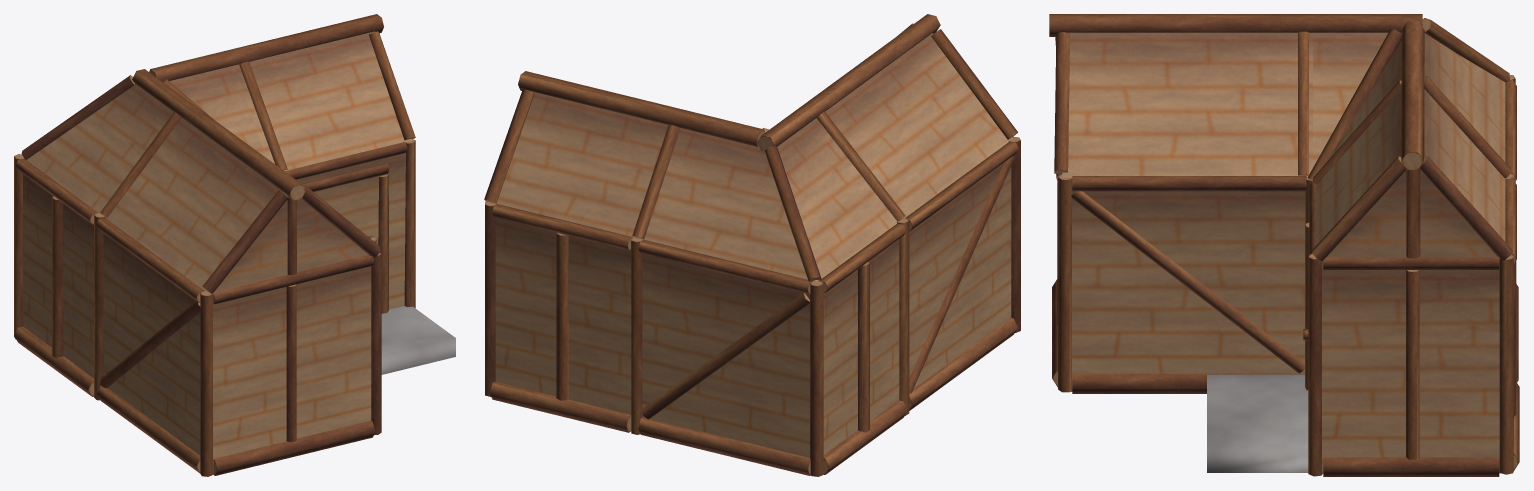
File: house.fbx
3 views of the same model, side by side, from view 1: azimuth 30°, elevation 25°; view 2: azimuth 150°, elevation 25°; view 3: azimuth 270°, elevation 25° (orthographic). The views are drawn at different scales.
Parts seen in each view (by area): view 1: pCube12, pCylinder40, pCube13, pCylinder39, pCylinder11, pCylinder2, pCylinder15, pCylinder1, pCylinder28, pCylinder17, pCylinder7, pCylinder18 (+16 smaller); view 2: pCube12, pCylinder40, pCylinder39, pCylinder13, pCylinder3, pCylinder22, pCylinder14, pCylinder29, pCylinder10, pCylinder30, pCylinder32, pCylinder17 (+13 smaller); view 3: pCube12, pCube13, pCylinder39, pCylinder9, pCylinder5, pCylinder26, pCylinder40, pCylinder8, pCylinder7, pCylinder16, pCylinder1, pCylinder31 (+15 smaller).
Part boxes in pixels (bbox=[...]): pCube12: bbox=[23, 31, 412, 474]; pCylinder40: bbox=[149, 14, 383, 81]; pCube13: bbox=[381, 306, 455, 374]; pCylinder39: bbox=[132, 69, 305, 201]; pCylinder11: bbox=[213, 420, 375, 475]; pCylinder2: bbox=[200, 290, 212, 476]; pCylinder15: bbox=[212, 255, 373, 304]; pCylinder1: bbox=[371, 253, 381, 434]; pCylinder28: bbox=[52, 196, 63, 358]; pCylinder17: bbox=[96, 386, 200, 473]; pCylinder7: bbox=[404, 139, 415, 308]; pCylinder18: bbox=[96, 217, 204, 302]; pCube12: bbox=[490, 33, 1012, 457]; pCylinder40: bbox=[518, 71, 765, 146]; pCylinder39: bbox=[757, 14, 940, 151]; pCylinder13: bbox=[638, 417, 810, 475]; pCylinder3: bbox=[810, 281, 823, 476]; pCylinder22: bbox=[490, 381, 631, 432]; pCylinder14: bbox=[638, 239, 812, 294]; pCylinder29: bbox=[641, 293, 810, 419]; pCylinder10: bbox=[631, 237, 642, 434]; pCylinder30: bbox=[556, 233, 568, 400]; pCylinder32: bbox=[909, 156, 1014, 393]; pCylinder17: bbox=[909, 318, 1017, 410]; pCube12: bbox=[1062, 32, 1505, 473]; pCube13: bbox=[1207, 374, 1308, 472]; pCylinder39: bbox=[1049, 14, 1422, 36]; pCylinder9: bbox=[1072, 176, 1306, 191]; pCylinder5: bbox=[1071, 191, 1304, 373]; pCylinder26: bbox=[1323, 457, 1499, 476]; pCylinder40: bbox=[1401, 21, 1424, 170]; pCylinder8: bbox=[1499, 254, 1513, 474]; pCylinder7: bbox=[1308, 253, 1322, 476]; pCylinder16: bbox=[1072, 373, 1304, 393]; pCylinder1: bbox=[1058, 174, 1072, 392]; pCylinder31: bbox=[1406, 270, 1419, 459].
Size of the model in its own units: 576 by 463 by 603.
